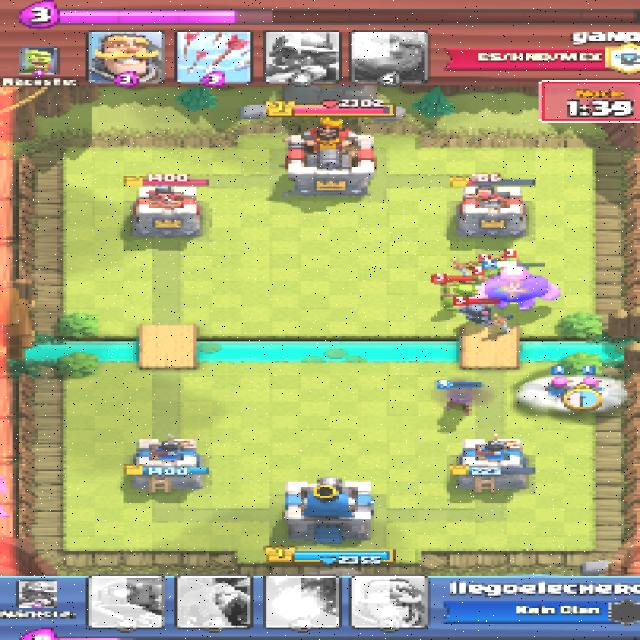Enemy-MiniPEKKA: (462, 302, 516, 326)
Enemy-SpearGoblin: (467, 269, 486, 288), (477, 258, 497, 276), (500, 256, 523, 267)
Player-Archer: (572, 377, 606, 396), (547, 377, 570, 397)
Player-Giant: (463, 266, 562, 314)
Player-GoblinCage: (439, 280, 476, 308)
Player-Musketeer: (443, 382, 479, 414)
